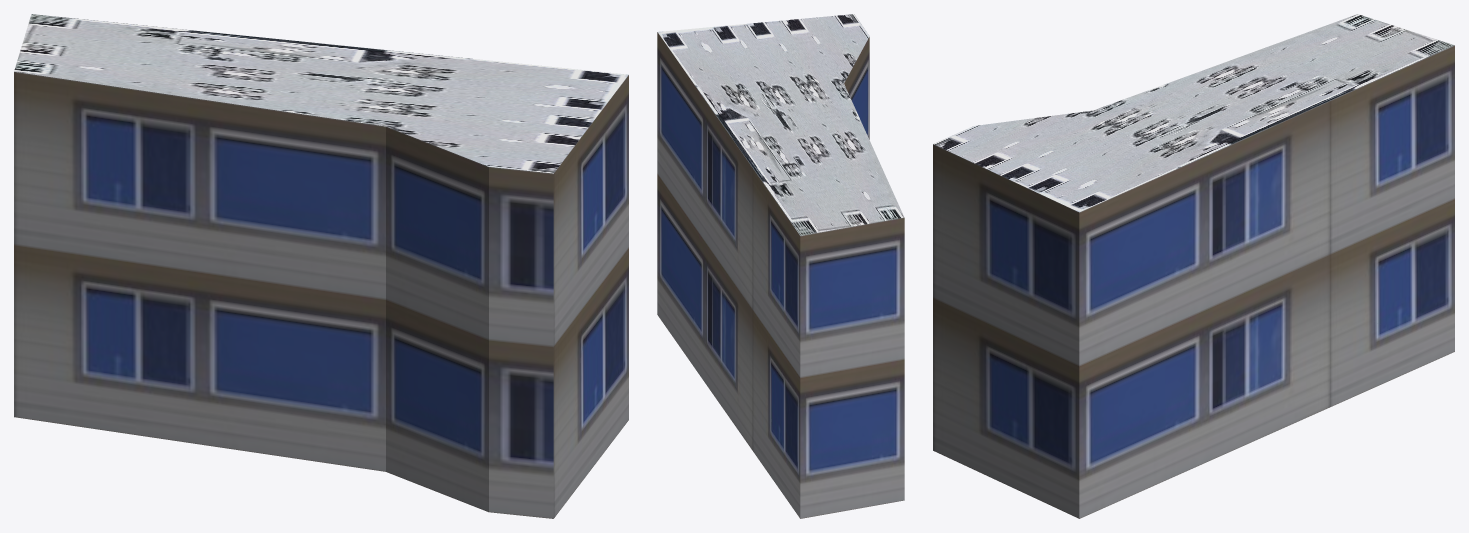
File: ResTex__3577.fbx
3 renders of one model, left to right at view 1: azimuth 30°, elevation 25°; view 2: azimuth 150°, elevation 25°; view 3: azimuth 270°, elevation 25°, orthographic. The views are drawn at different scales.
Parts seen in each view (by area): view 1: CityEngineMaterial_23_m, CityEngineMaterial_m; view 2: CityEngineMaterial_23_m, CityEngineMaterial_m; view 3: CityEngineMaterial_23_m, CityEngineMaterial_m.
Part boxes in pixels (x1,y1,x2,y2): CityEngineMaterial_23_m: (14,72,628,518); CityEngineMaterial_m: (14,14,628,173); CityEngineMaterial_23_m: (657,32,904,518); CityEngineMaterial_m: (658,14,904,235); CityEngineMaterial_23_m: (933,45,1454,518); CityEngineMaterial_m: (933,14,1454,212).
Size of the model in its own units: 8.33 by 6 by 9.26.
2 materials, 2 textured.
